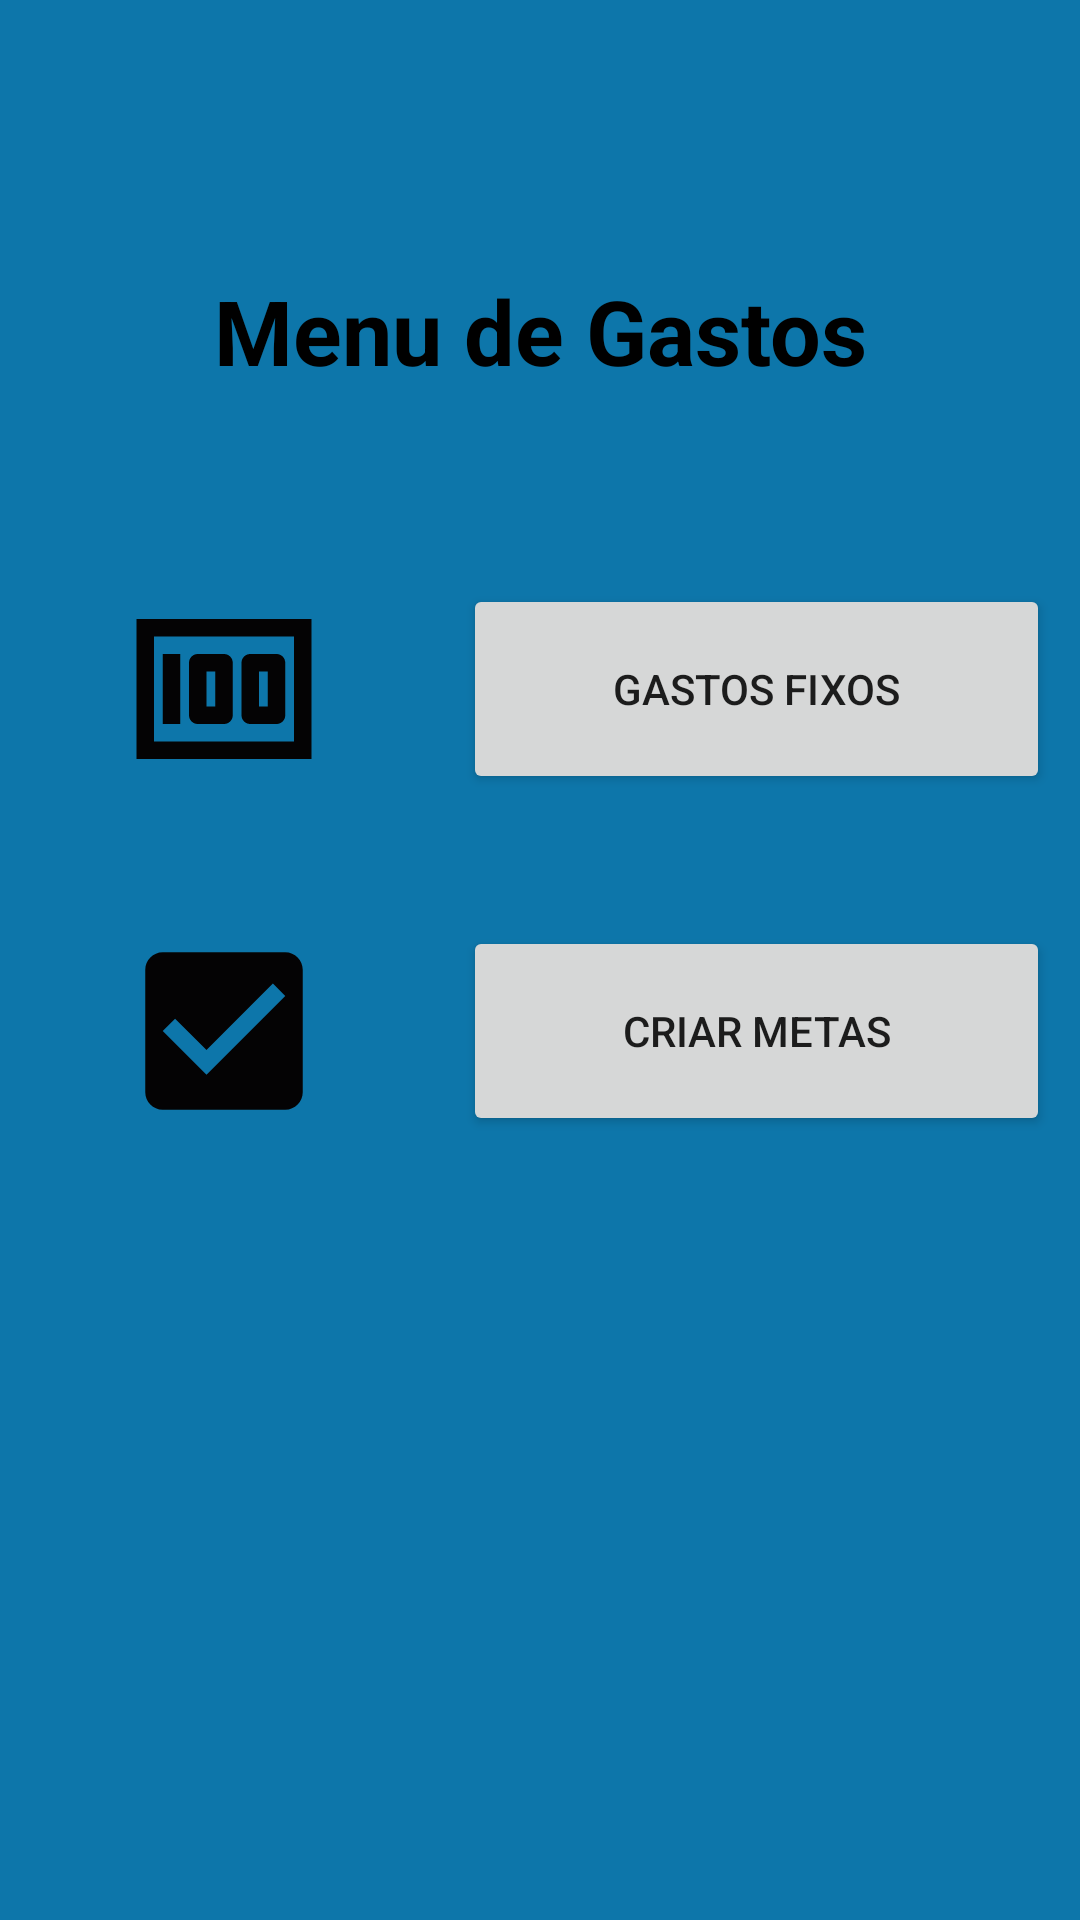

Point at icon controls on the screen. Image size 1080x1920, points as point (x, y).
check box: point (224, 1031)
money: point (224, 689)
